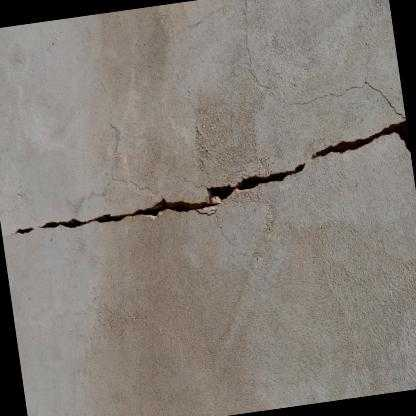crack: (1, 119, 410, 239)
